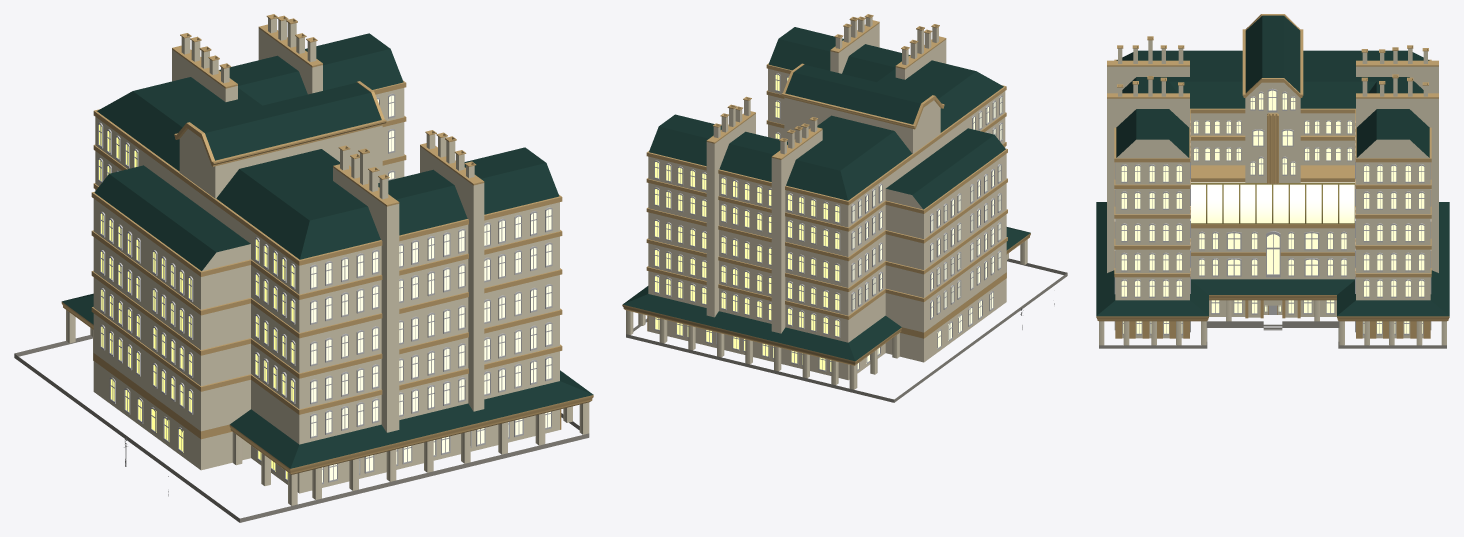
Rendered from buildings.glb.
The picture shows the model from 3 angles, left to right: view 1: azimuth 30°, elevation 25°; view 2: azimuth 150°, elevation 25°; view 3: azimuth 270°, elevation 25°; orthographic projection. The views are drawn at different scales.
Parts seen in each view (by area): view 1: building, 3rd floor, hotel devider, 2nd fllor, 4th floor, 5th floor, roof ground, windows 5th floor, building.003, ground floor walls, windows 4th floor, windows 3rd floor (+5 smaller); view 2: building, 3rd floor, hotel devider, 2nd fllor, 4th floor, 5th floor, roof ground, windows 5th floor, building.003, ground floor walls, windows 3rd floor, windows 4th floor (+5 smaller); view 3: building, 3rd floor, roof ground, hotel devider, 5th floor, Glass roof, building.003, windows 5th floor, 2nd fllor, windows 3rd floor, 4th floor, ground floor walls (+6 smaller).
Boxes of the visible parts, x1=… form: building: x1=94, y1=33, x2=559, y2=271; 3rd floor: x1=93, y1=14, x2=559, y2=415; hotel devider: x1=91, y1=80, x2=562, y2=414; 2nd fllor: x1=93, y1=314, x2=559, y2=444; 4th floor: x1=93, y1=160, x2=559, y2=373; 5th floor: x1=93, y1=122, x2=559, y2=332; roof ground: x1=61, y1=293, x2=593, y2=474; windows 5th floor: x1=98, y1=93, x2=552, y2=324; building.003: x1=95, y1=88, x2=559, y2=294; ground floor walls: x1=93, y1=361, x2=561, y2=493; windows 4th floor: x1=100, y1=170, x2=552, y2=366; windows 3rd floor: x1=100, y1=288, x2=552, y2=414; building: x1=649, y1=27, x2=1005, y2=209; 3rd floor: x1=648, y1=14, x2=1006, y2=333; hotel devider: x1=646, y1=63, x2=1007, y2=319; 2nd fllor: x1=648, y1=242, x2=1006, y2=342; 4th floor: x1=648, y1=124, x2=1006, y2=287; 5th floor: x1=648, y1=95, x2=1006, y2=256; roof ground: x1=622, y1=227, x2=1030, y2=365; windows 5th floor: x1=654, y1=73, x2=1002, y2=250; building.003: x1=648, y1=68, x2=1005, y2=227; ground floor walls: x1=647, y1=278, x2=1006, y2=380; windows 3rd floor: x1=654, y1=222, x2=1001, y2=319; windows 4th floor: x1=654, y1=132, x2=1001, y2=282; building: x1=1116, y1=15, x2=1429, y2=182; 3rd floor: x1=1107, y1=36, x2=1438, y2=277; roof ground: x1=1096, y1=202, x2=1449, y2=321; hotel devider: x1=1114, y1=59, x2=1431, y2=277; 5th floor: x1=1115, y1=113, x2=1430, y2=214; Glass roof: x1=1190, y1=183, x2=1355, y2=224; building.003: x1=1115, y1=113, x2=1430, y2=184; windows 5th floor: x1=1114, y1=88, x2=1431, y2=209; 2nd fllor: x1=1107, y1=247, x2=1430, y2=300; windows 3rd floor: x1=1114, y1=231, x2=1431, y2=277; 4th floor: x1=1115, y1=218, x2=1430, y2=245; ground floor walls: x1=1115, y1=300, x2=1430, y2=338.
Size of the model in its own units: 7.94 by 10.91 by 8.25.
